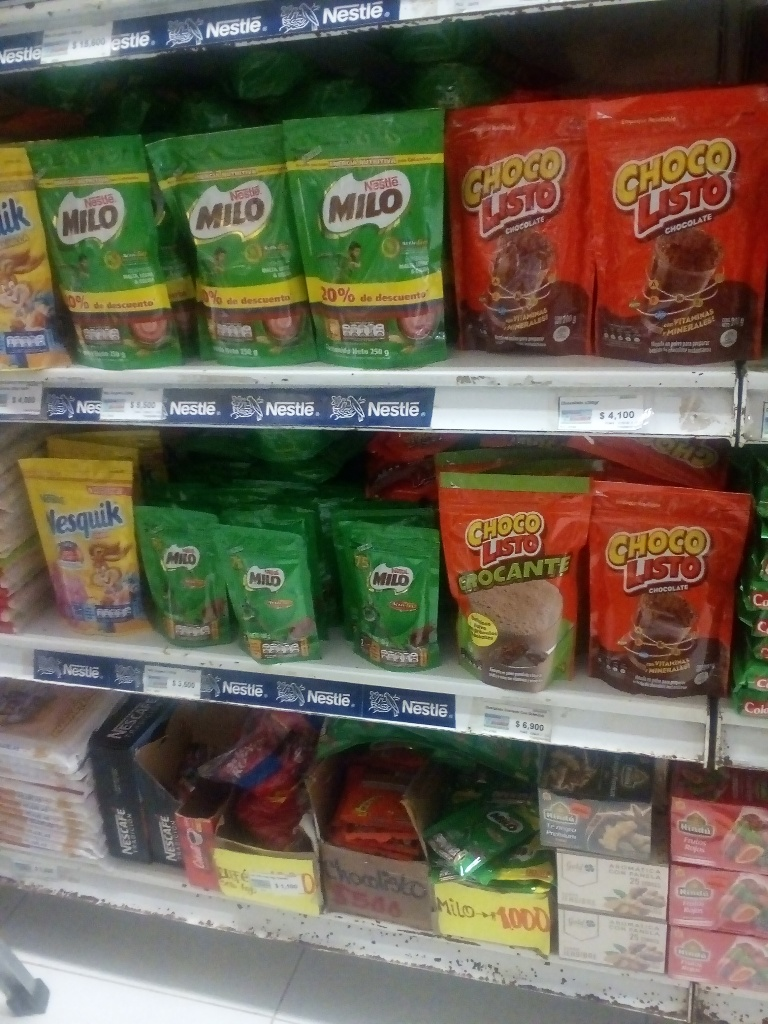COL0170102DYP25000: (442, 458, 602, 696)
COL0170203DYP10000: (123, 502, 224, 655)
COL0170203DYP25000: (152, 136, 303, 366)
COL0170303DYP20000: (1, 146, 76, 368)
COL0170305DYP20000: (6, 436, 140, 640)
